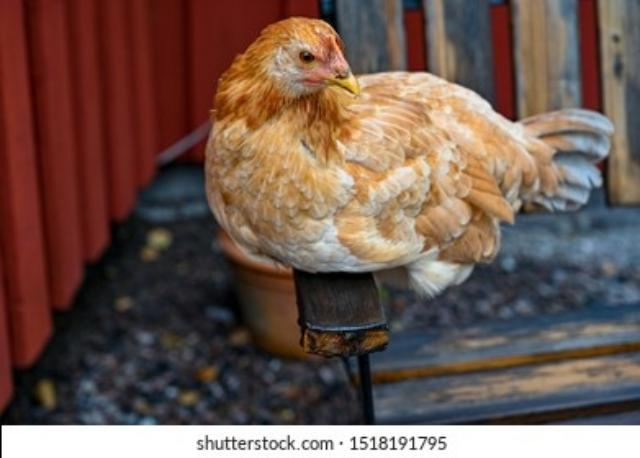Chicken: (205, 15, 615, 296)
